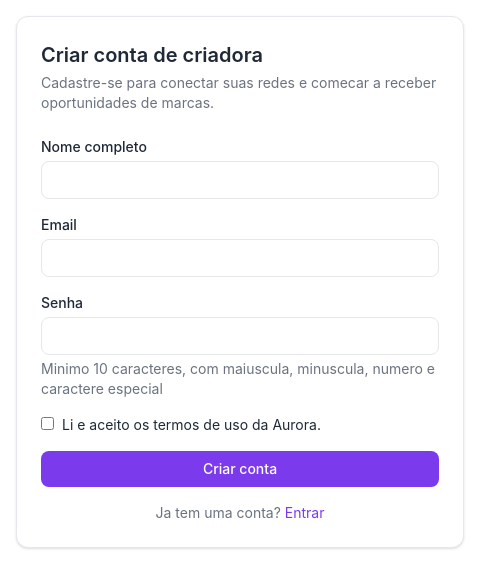
Test: RegisterPage - US-24.1 step 1 (self-registration) › shows the verify-your-email message after a successful registration
In the field labelled "Nome completo": point(240, 180) [41, 161, 439, 199], type "Duda Oliveira"
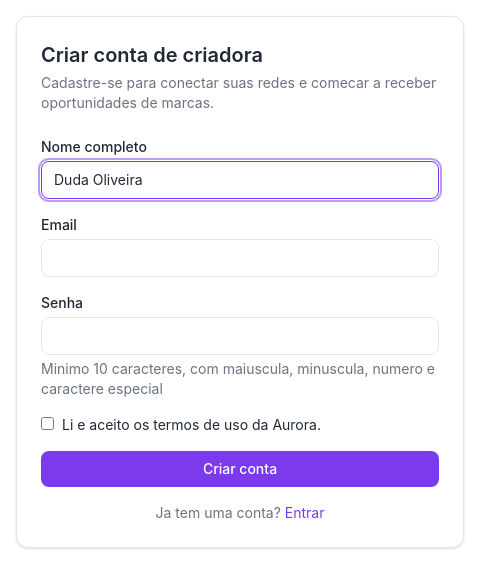
In the field labelled "Email": point(240, 258) [41, 239, 439, 277], type "duda@example.com"
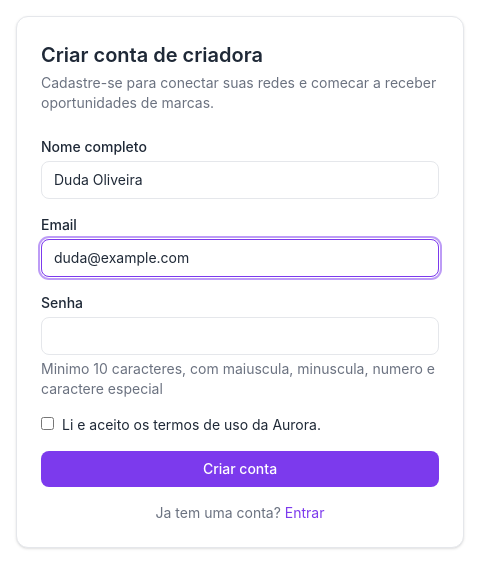
In the password field labelled "Senha": point(240, 336) [41, 317, 439, 355], type "StrongP@ss1"
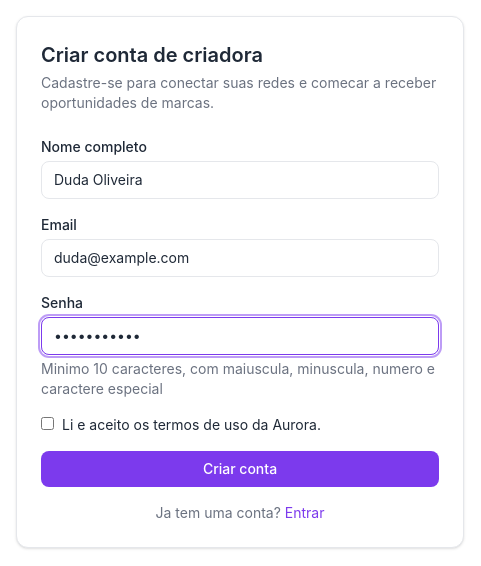
Click the checkbox: point(48, 424) [41, 417, 54, 430]
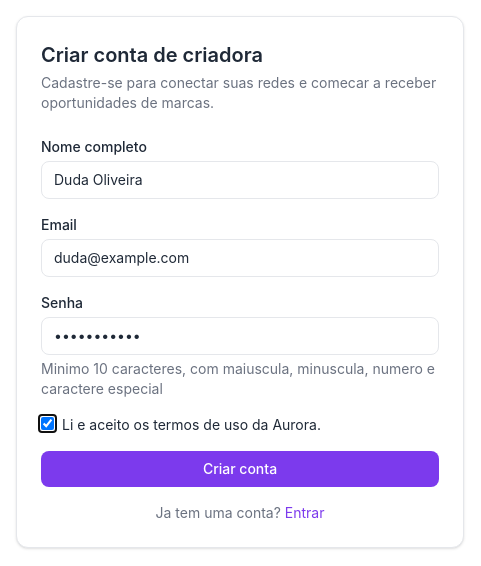
Click the button "Criar conta": point(240, 469) [41, 451, 439, 487]
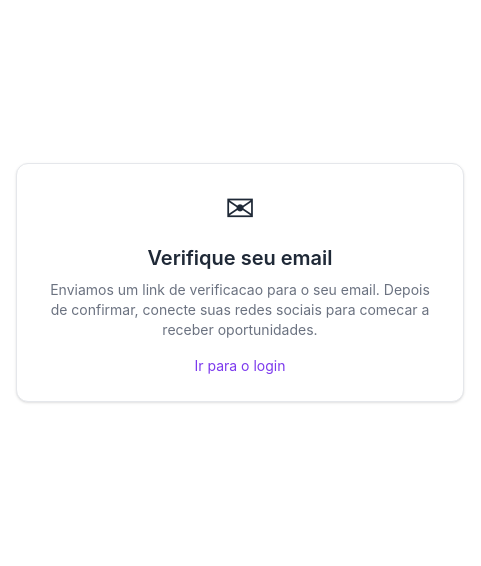
Expected: the heading "Verifique seu email" is shown, [147, 246, 332, 270]
